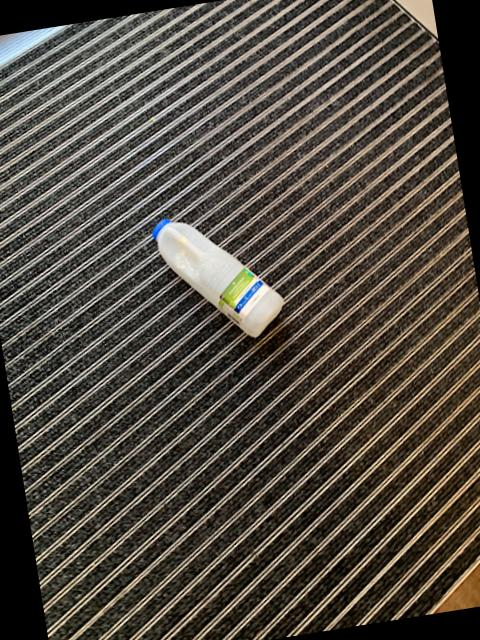plastic: (153, 216, 283, 334)
